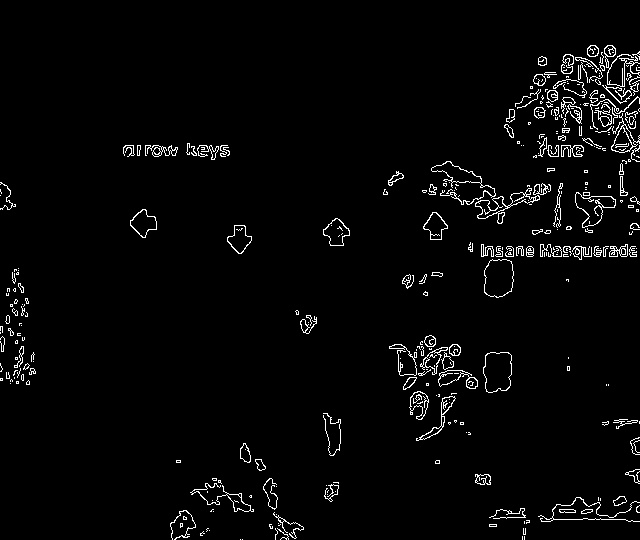down: (218, 216, 261, 262)
left: (123, 203, 166, 244)
up: (314, 211, 358, 254), (417, 207, 462, 247)
